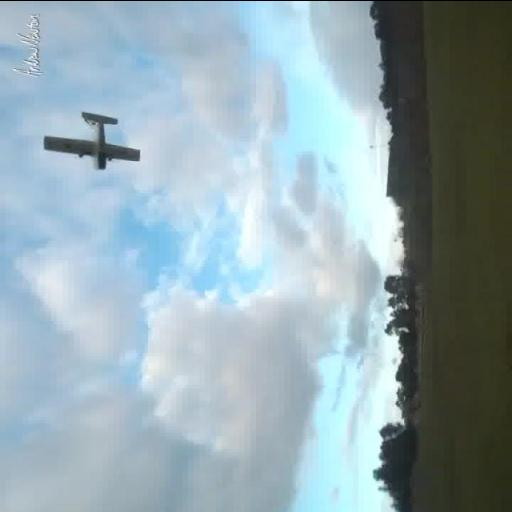uav: (32, 106, 150, 184)
